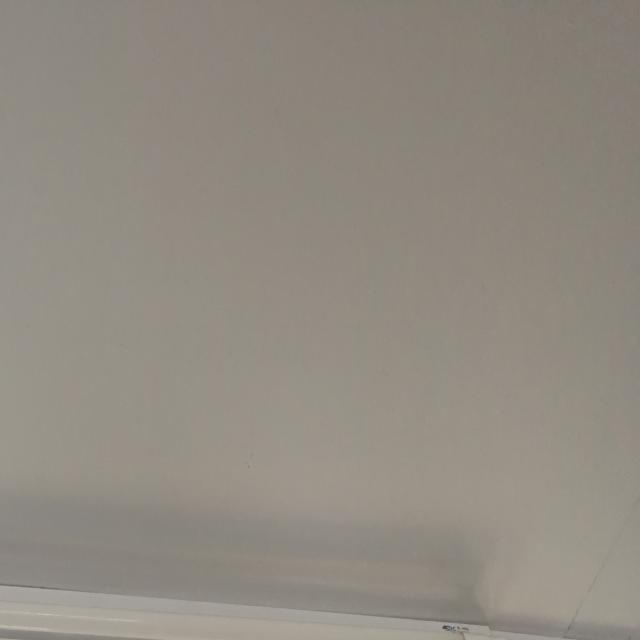fluorescent tube: (0, 522, 581, 640)
